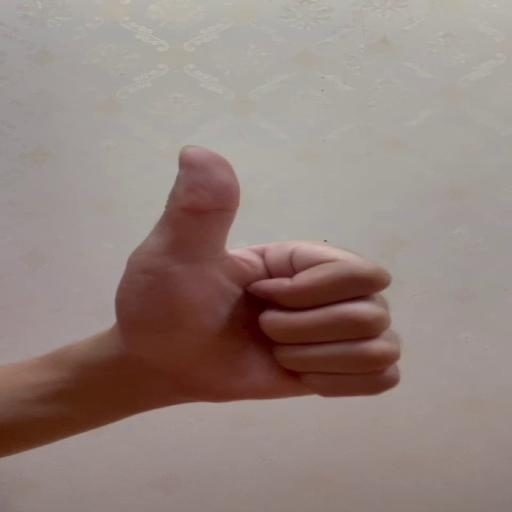thumbs_up: (114, 143, 405, 404)
